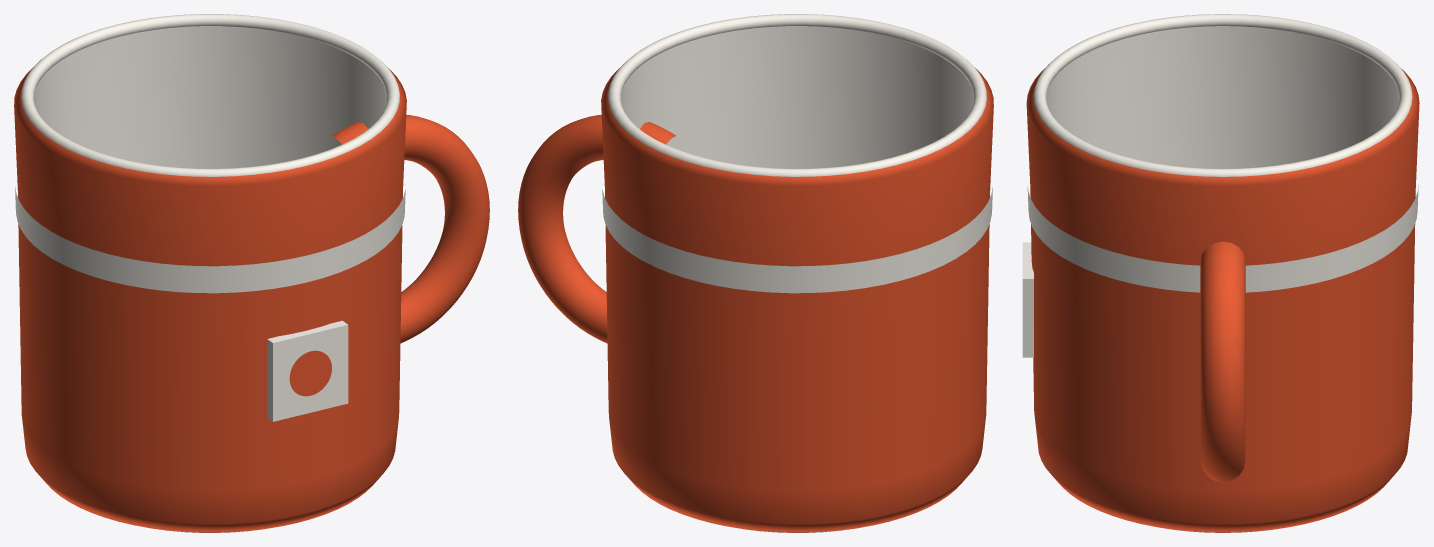
The model's file is mug.glb.
3 views of the same model, side by side, from view 1: azimuth 30°, elevation 25°; view 2: azimuth 150°, elevation 25°; view 3: azimuth 270°, elevation 25° (orthographic).
Visible parts, largest first — view 1: Body, Interior, Handle, Band, Rim, Badge, BadgeDot; view 2: Body, Interior, Handle, Band, Rim; view 3: Body, Interior, Handle, Rim, Band, Badge.
Boxes of the visible parts, bbox=[...] form: Body: bbox=[14, 68, 406, 532]; Interior: bbox=[34, 26, 386, 168]; Handle: bbox=[332, 114, 489, 343]; Band: bbox=[15, 184, 405, 293]; Rim: bbox=[21, 14, 399, 176]; Badge: bbox=[267, 320, 348, 421]; BadgeDot: bbox=[289, 350, 331, 396]; Body: bbox=[601, 68, 993, 532]; Interior: bbox=[621, 26, 973, 168]; Handle: bbox=[518, 114, 675, 343]; Band: bbox=[602, 184, 992, 293]; Rim: bbox=[608, 14, 986, 176]; Body: bbox=[1026, 68, 1419, 532]; Interior: bbox=[1046, 26, 1399, 168]; Handle: bbox=[1200, 241, 1245, 482]; Rim: bbox=[1033, 14, 1412, 176]; Band: bbox=[1027, 185, 1418, 292]; Badge: bbox=[1022, 242, 1033, 357].
Size of the model in its own units: 0.1228 by 0.0974 by 0.0946.
